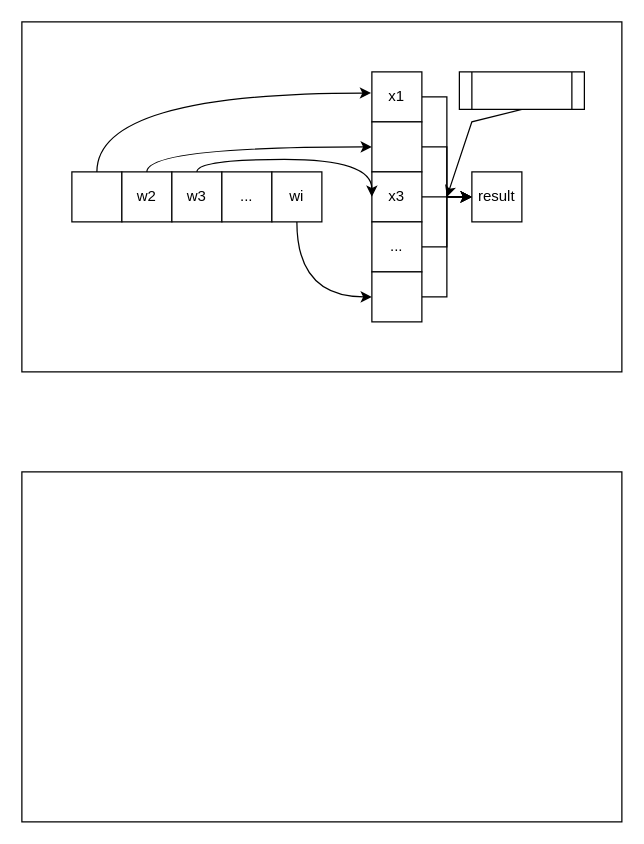
This 644x844 diagram has some shape labels left out. Here are the shapes that lost their labels. From the top down, the centre of each, then its label:
(x=521, y=90): 累加求和运算
(x=396, y=146): x2
(x=96, y=196): w1
(x=396, y=296): xi
